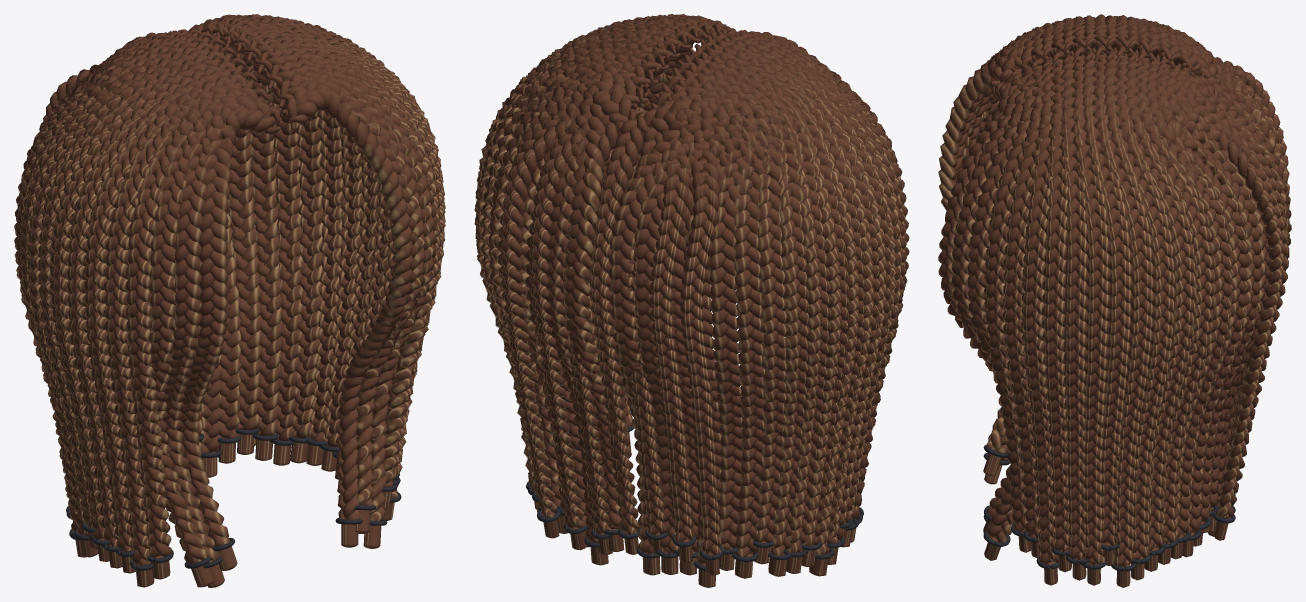
File: Highlights-5b8fd8b78645252-hair.glb
3 renders of one model, left to right at view 1: azimuth 30°, elevation 25°; view 2: azimuth 150°, elevation 25°; view 3: azimuth 270°, elevation 25°, orthographic. The views are drawn at different scales.
Parts seen in each view (by area): view 1: 226 hair / Hair / chestnut226, 226 hair / Hair / ties226; view 2: 226 hair / Hair / chestnut226, 226 hair / Hair / ties226; view 3: 226 hair / Hair / chestnut226, 226 hair / Hair / ties226.
Part boxes in pixels (bbox=[...]): 226 hair / Hair / chestnut226: bbox=[14, 14, 445, 587]; 226 hair / Hair / ties226: bbox=[66, 428, 401, 570]; 226 hair / Hair / chestnut226: bbox=[474, 14, 909, 587]; 226 hair / Hair / ties226: bbox=[526, 425, 863, 570]; 226 hair / Hair / chestnut226: bbox=[938, 14, 1291, 587]; 226 hair / Hair / ties226: bbox=[983, 445, 1235, 571].
Bounding box in the file's own units: 1.07 × 1.31 × 0.8719.
Materials: 2 (1 with a texture image).
